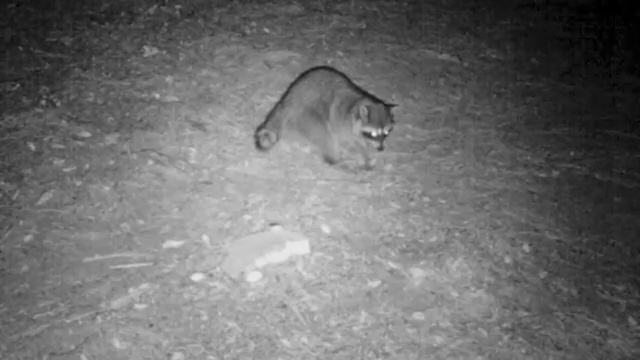raccoon: (252, 64, 405, 186)
